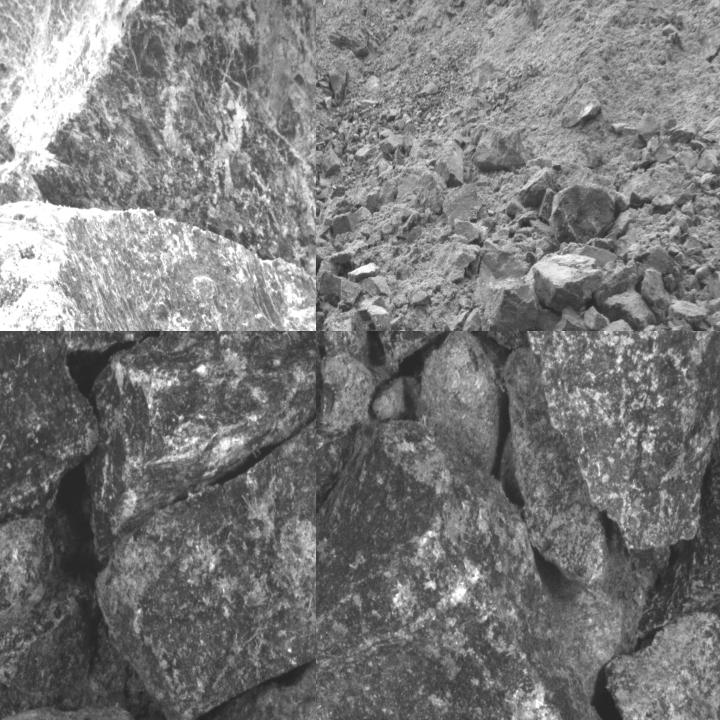stone: (0, 0, 315, 330), (316, 420, 637, 719), (93, 375, 315, 719), (87, 331, 315, 559), (527, 331, 719, 548), (0, 200, 315, 330), (505, 347, 611, 579), (0, 331, 96, 554), (131, 644, 315, 719), (0, 575, 101, 706), (652, 445, 719, 616), (418, 331, 498, 460), (0, 519, 54, 680), (366, 331, 545, 377), (316, 354, 379, 432), (528, 254, 604, 314), (316, 331, 371, 413), (554, 185, 618, 247), (476, 251, 524, 330), (316, 411, 352, 490), (599, 260, 649, 308), (473, 127, 530, 169), (487, 285, 539, 330), (371, 376, 419, 418), (442, 183, 483, 229), (605, 290, 653, 329), (434, 239, 478, 280), (316, 269, 362, 307), (520, 168, 558, 207), (644, 268, 674, 315), (416, 170, 448, 212), (348, 304, 395, 330), (668, 298, 710, 326), (561, 100, 602, 128), (437, 143, 463, 186), (549, 314, 599, 330), (582, 303, 609, 330), (636, 113, 658, 144), (331, 211, 359, 234), (362, 275, 389, 297), (453, 219, 479, 241), (378, 134, 405, 154), (377, 181, 396, 208), (596, 320, 647, 330), (323, 149, 341, 176), (707, 270, 719, 309), (698, 150, 717, 173), (463, 309, 482, 330), (709, 305, 719, 330)
